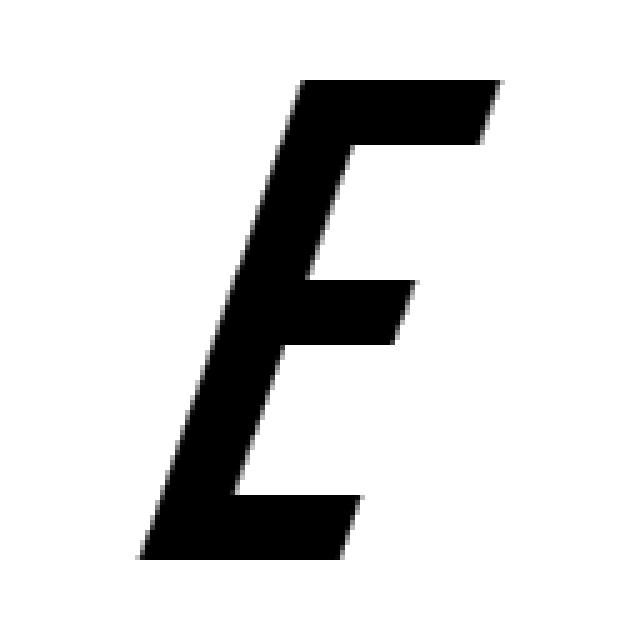E: (135, 80, 505, 565)
